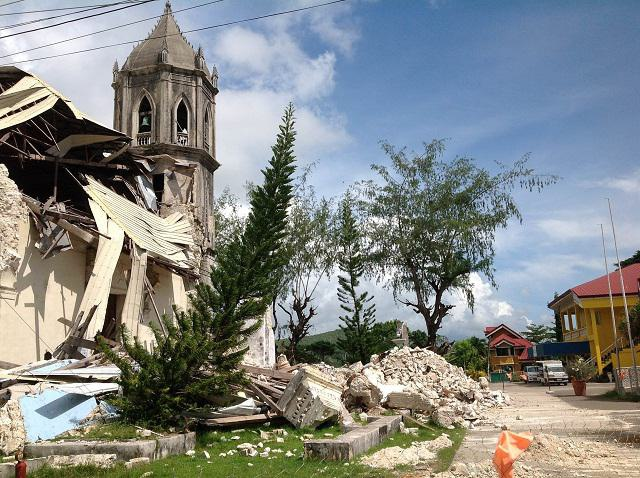sagging_roof: (1, 50, 192, 298)
